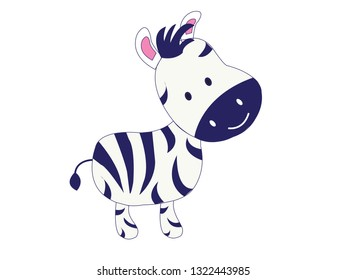animal: (65, 11, 258, 238)
